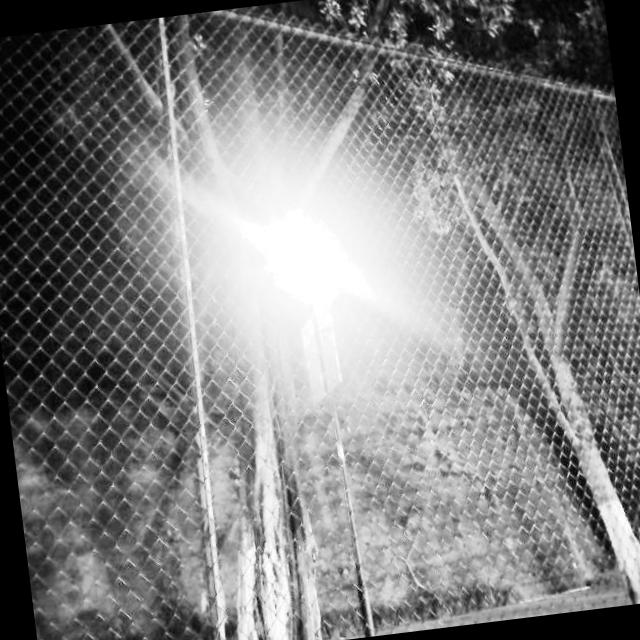Light: (278, 219, 379, 640)
Tree: (436, 63, 640, 620), (157, 22, 327, 640)
